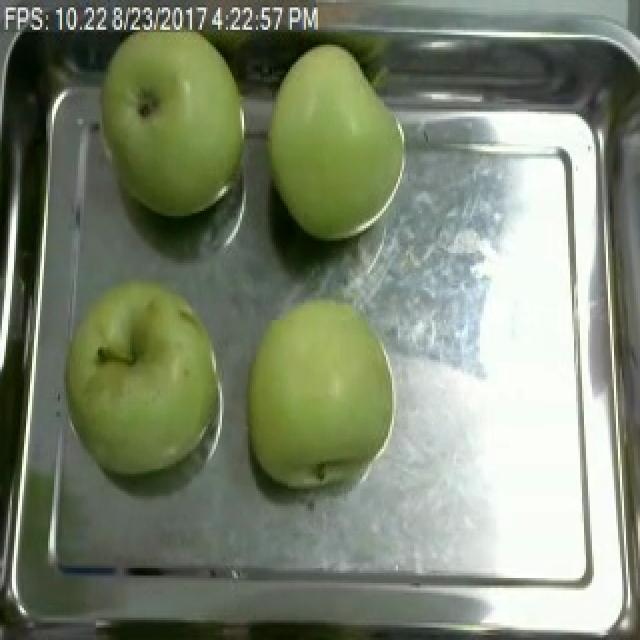50-_ripeness: (242, 296, 420, 540), (265, 43, 421, 277), (61, 269, 222, 486), (95, 29, 247, 224)
